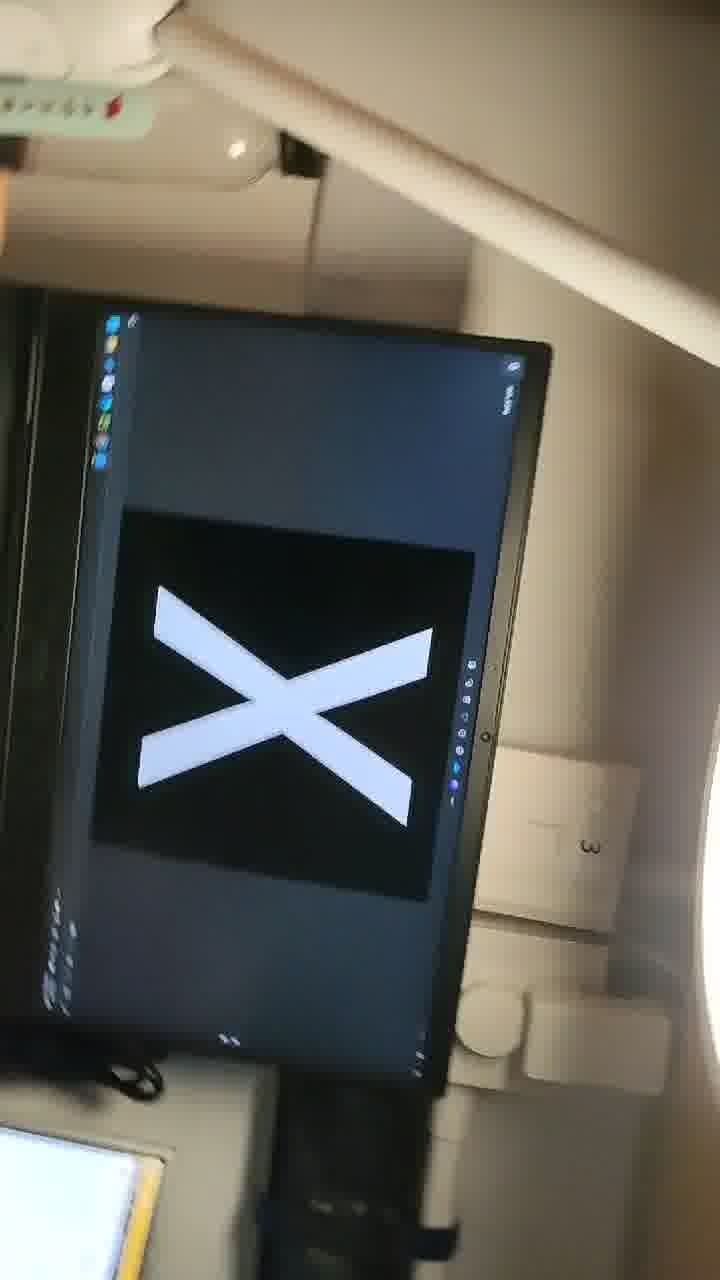X: (60, 502, 520, 860)
